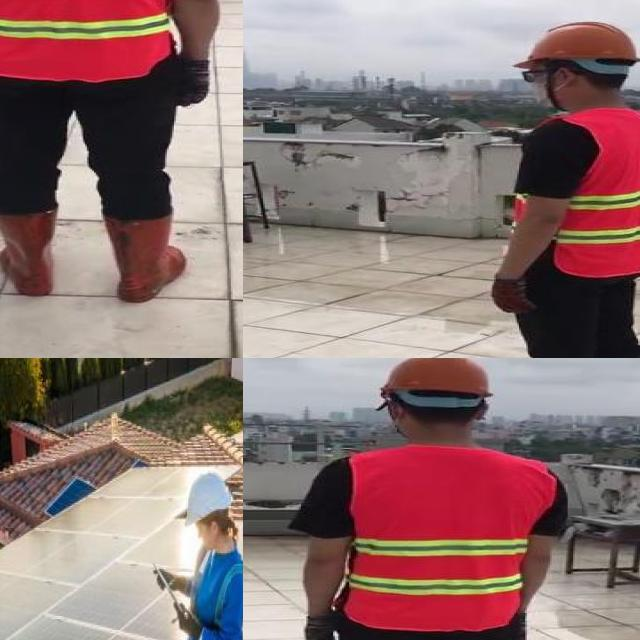boots: (554, 111, 640, 277), (101, 213, 188, 302), (0, 209, 60, 298)
face_mask: (513, 61, 577, 110)
hand_glove: (492, 277, 537, 314), (176, 60, 211, 107), (300, 612, 345, 640), (502, 616, 527, 640)
head_helmet: (510, 19, 640, 64), (376, 358, 499, 396)
person: (289, 358, 570, 640), (0, 0, 232, 304), (465, 17, 640, 358)
vest: (347, 446, 552, 630), (0, 0, 179, 82)
